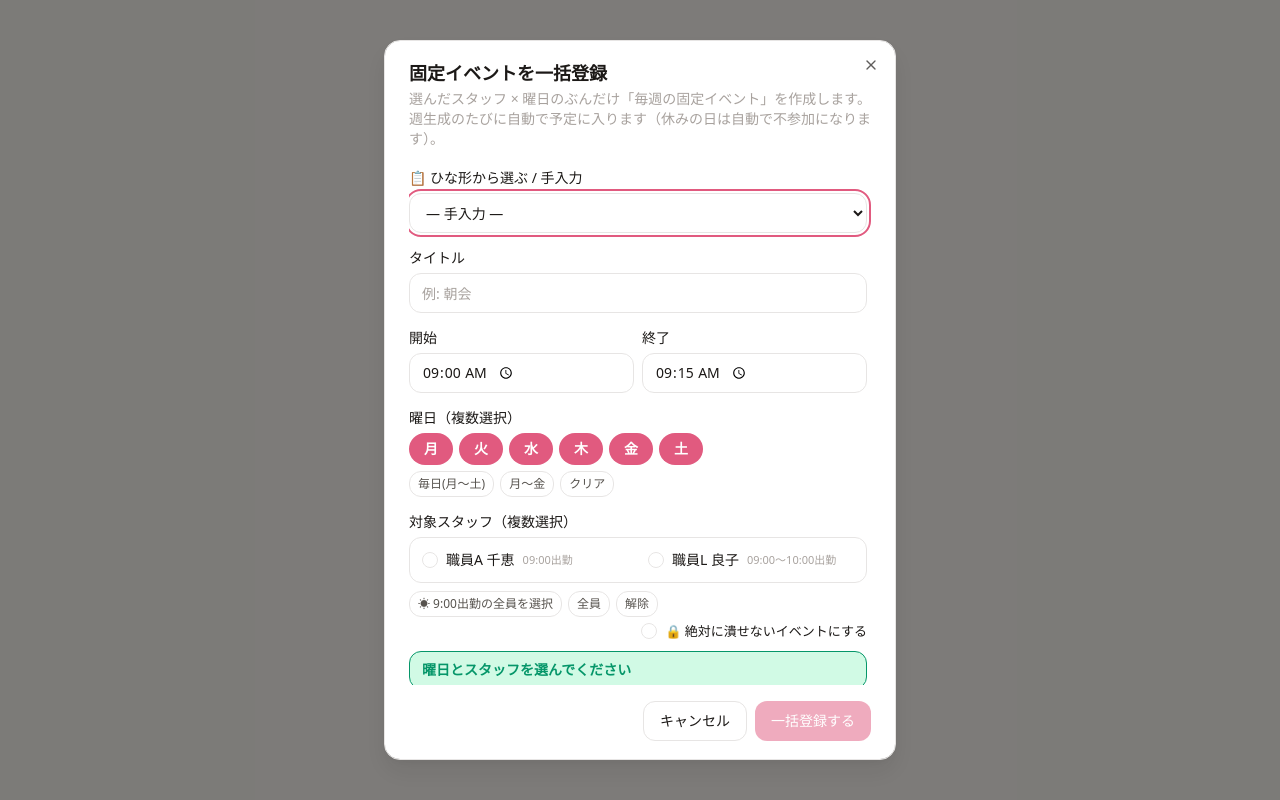
BulkEventDefaultsDialog — プレビュー › 1. スタッフ未選択なら案内、選ぶと N名 × M曜日 = NM件 を出す
expect the text with test id "bulk-preview" reads "曜日とスタッフを選んでください": met, box [422, 660, 631, 679]
Click the button with test id "bulk-select-all": [589, 604] box [568, 591, 610, 617]
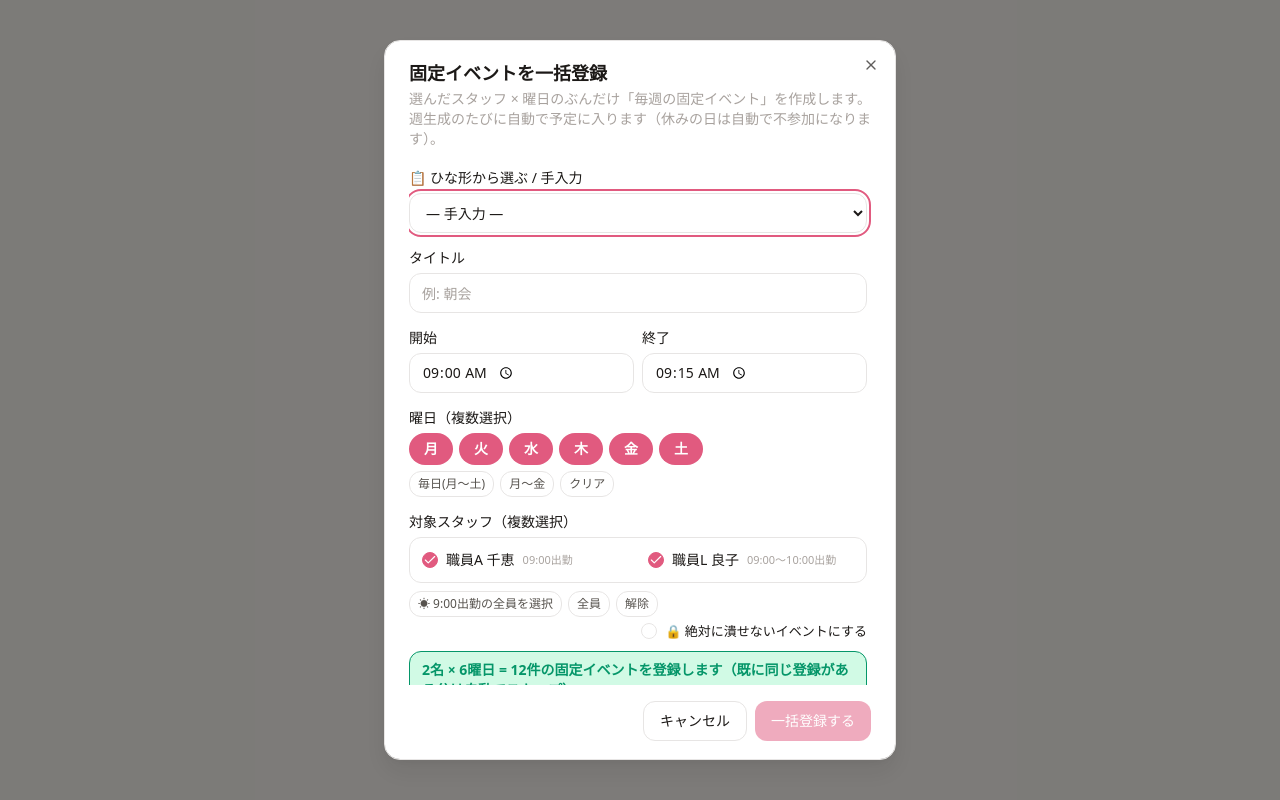
expect the text with test id "bulk-preview" reads "2名 × 6曜日 = 12件の固定イベントを登録します（既に同じ登録がある分は自動でスキップ）": met, box [422, 660, 849, 685]
